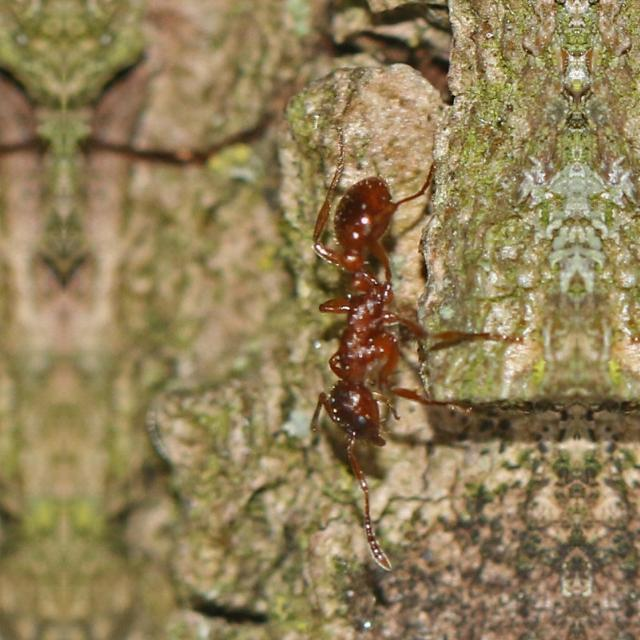Myrmica: (306, 166, 422, 464)
